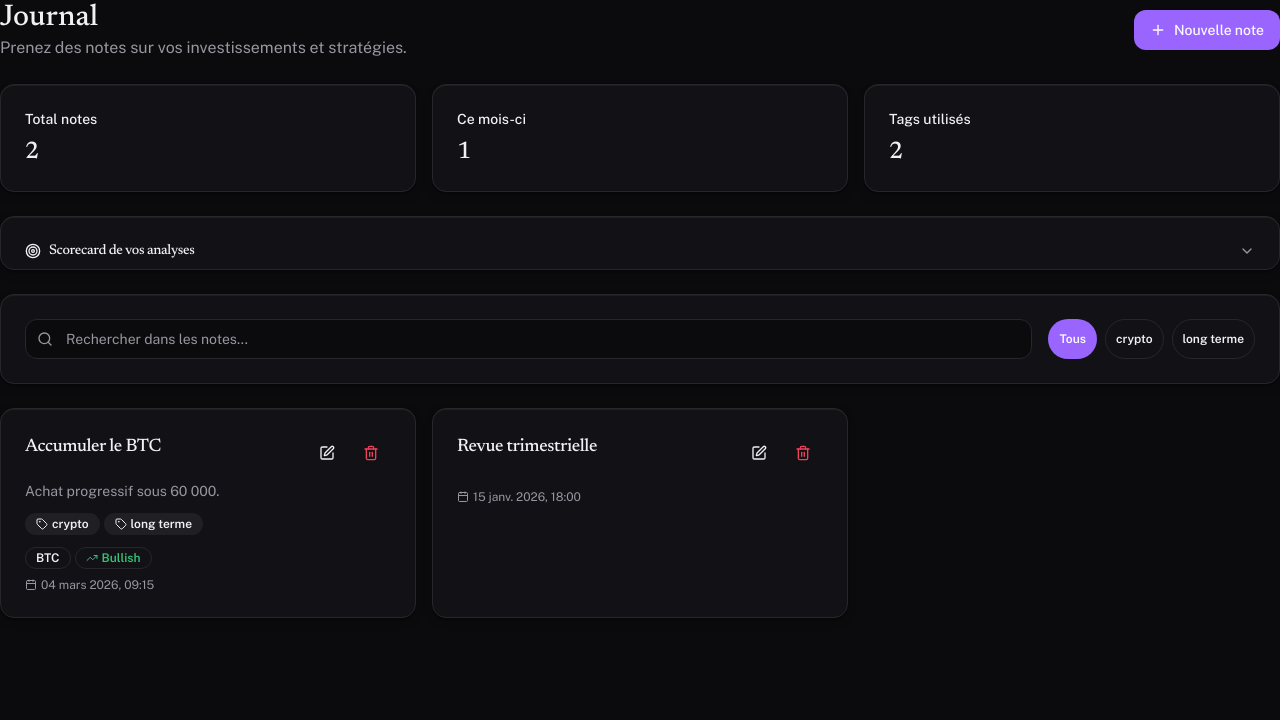
Test: NotesPage — défauts corrigés › la scorecard écrit les performances à la française
Expected: the heading "Accumuler le BTC" is shown, [25,433,161,461]
Click the button "Scorecard de vos analyses".
click(122, 251)  # box [25,241,1255,261]
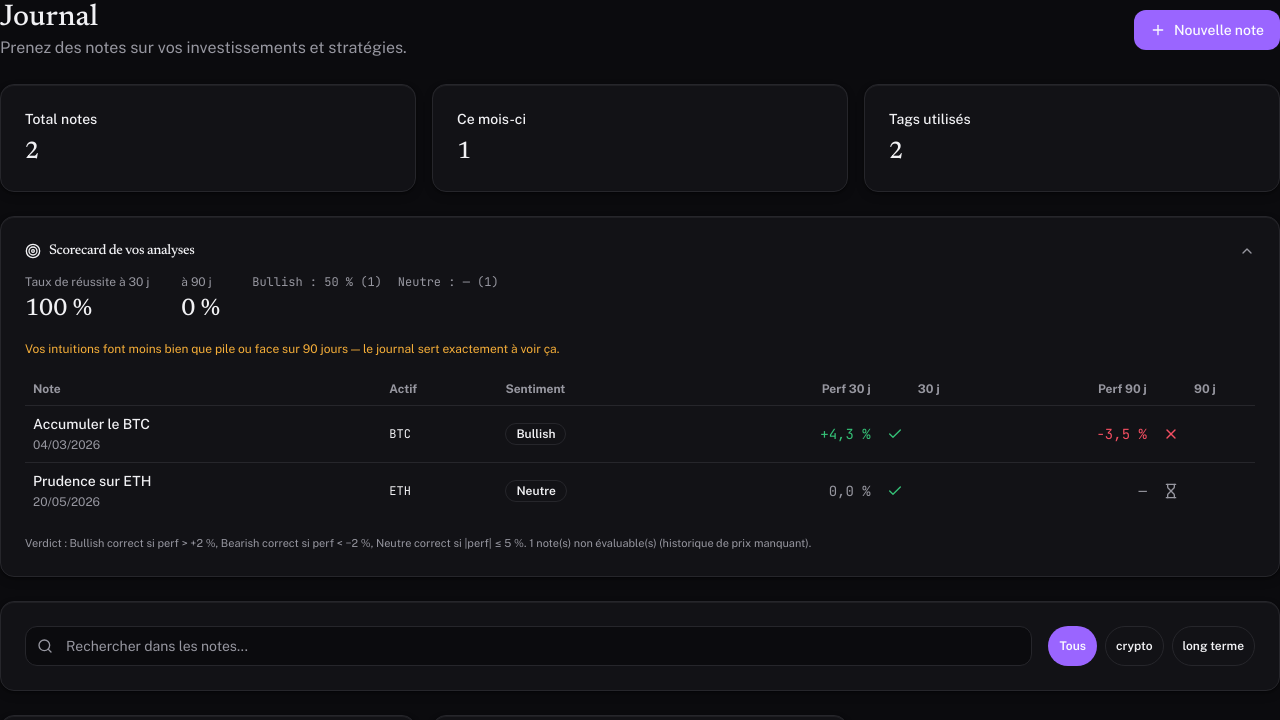
Expected: the text "+4,3 %" is shown, [703,406,879,462]
Expected: the text "-3,5 %" is shown, [979,406,1155,462]
